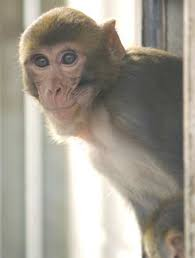monkey: (14, 6, 165, 246)
